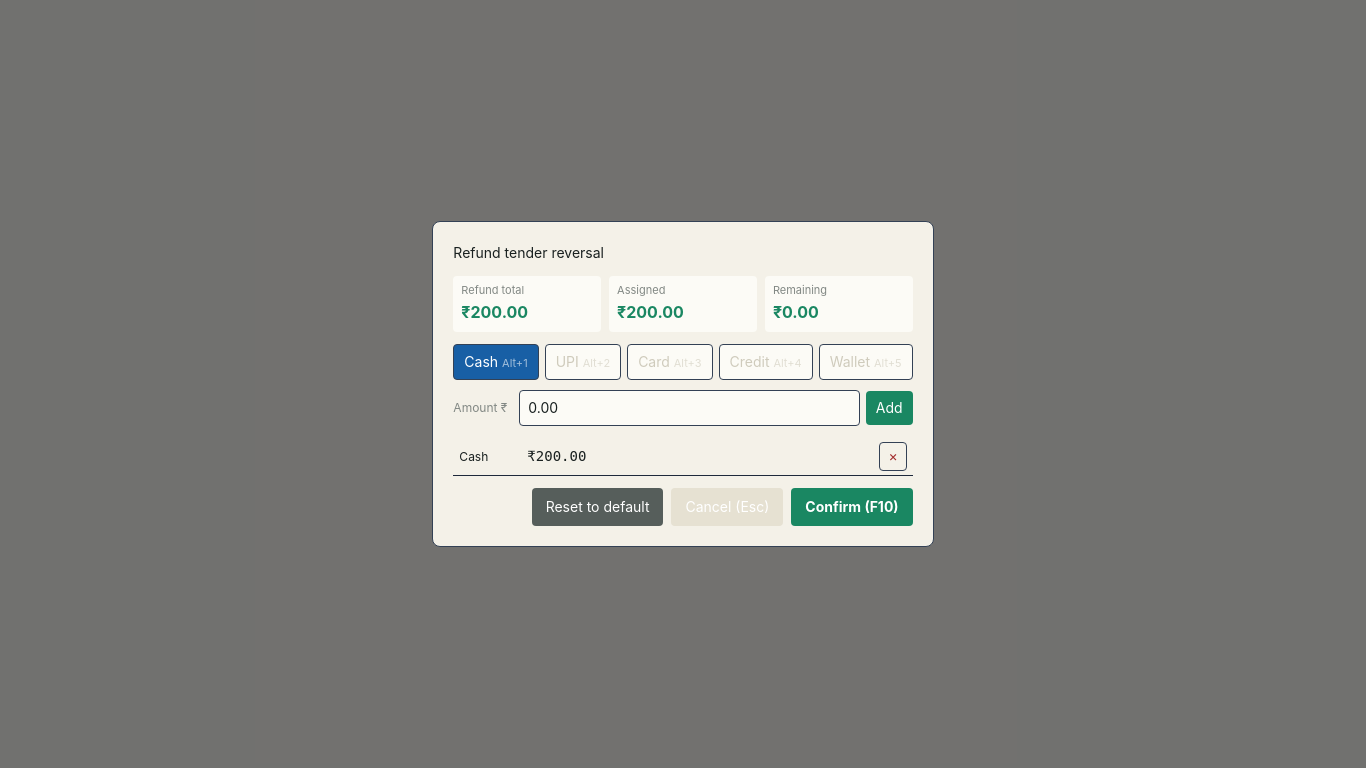
Test: TenderReversalModal render › reset to default re-seeds after manual edits
This screenshot has width=1366, height=768.
Click the button with test id "tender-reversal-remove-0": (893, 456) [879, 442, 907, 471]
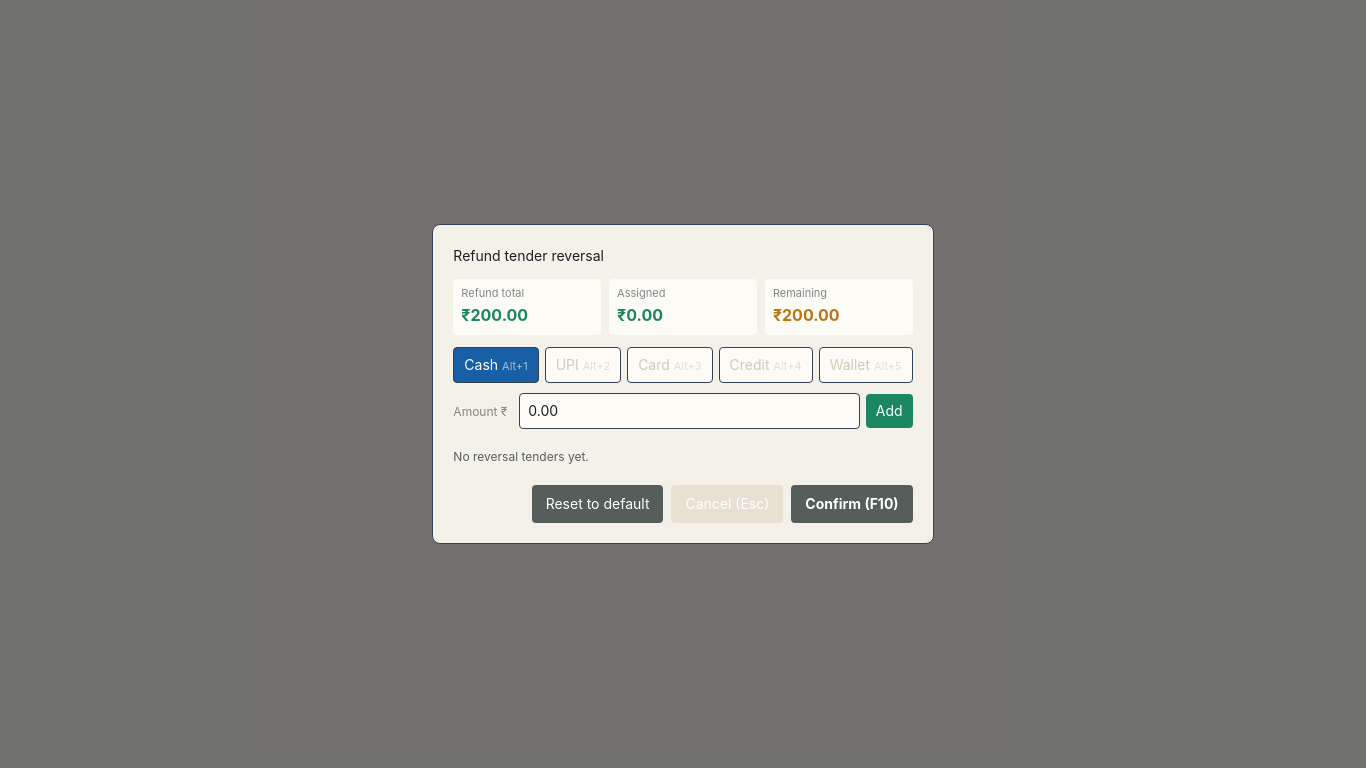
Expected: the element with test id "tender-reversal-row-0" is gone
Click the button with test id "tender-reversal-reset": (598, 504) [532, 485, 663, 523]
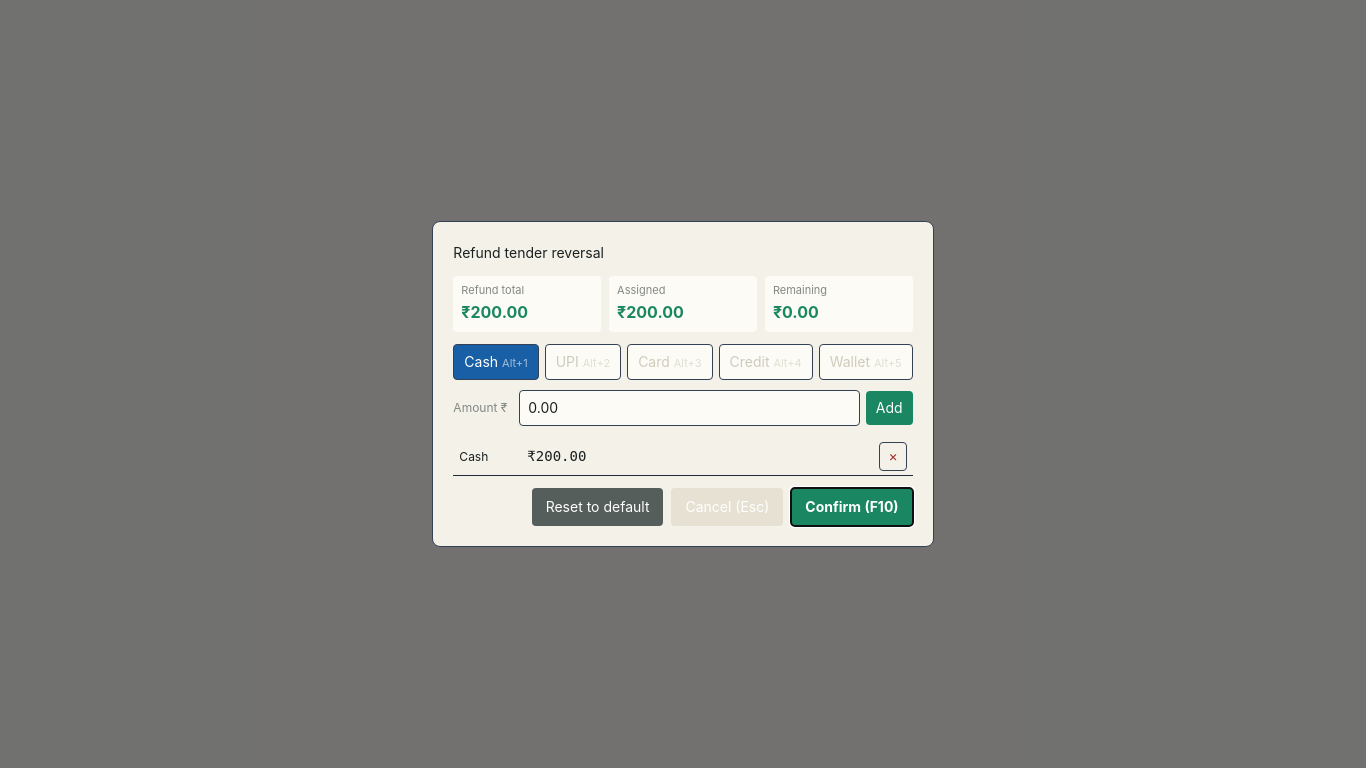
Expected: the element with test id "tender-reversal-row-0" shows "Cash", [459, 449, 488, 464]
